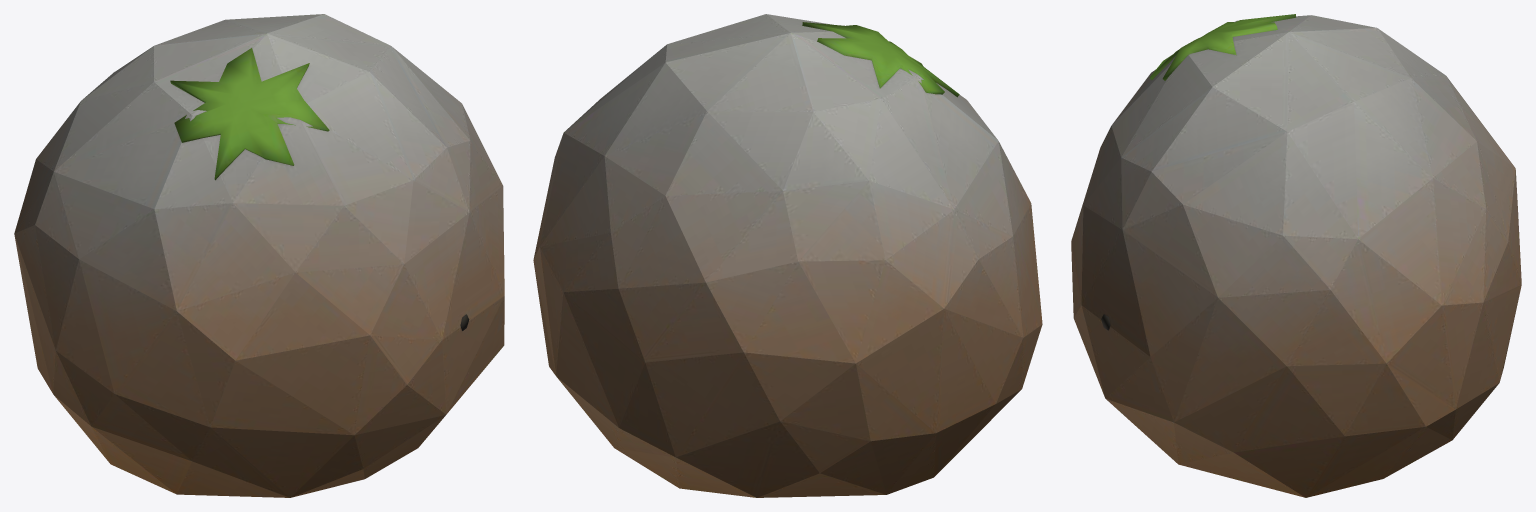
The model's file is rock_3_mid.glb.
3 renders of one model, left to right at view 1: azimuth 30°, elevation 25°; view 2: azimuth 150°, elevation 25°; view 3: azimuth 270°, elevation 25°, orthographic. The views are drawn at different scales.
Visible parts, largest first — view 1: rock_3; view 2: rock_3; view 3: rock_3.
Boxes of the visible parts, x1,y1,x2,y2 form: rock_3: (14, 14, 504, 497); rock_3: (533, 14, 1042, 497); rock_3: (1071, 14, 1521, 497).
Size of the model in its own units: 0.6405 by 0.5992 by 0.5834.
Materials: 1 (1 with a texture image).
